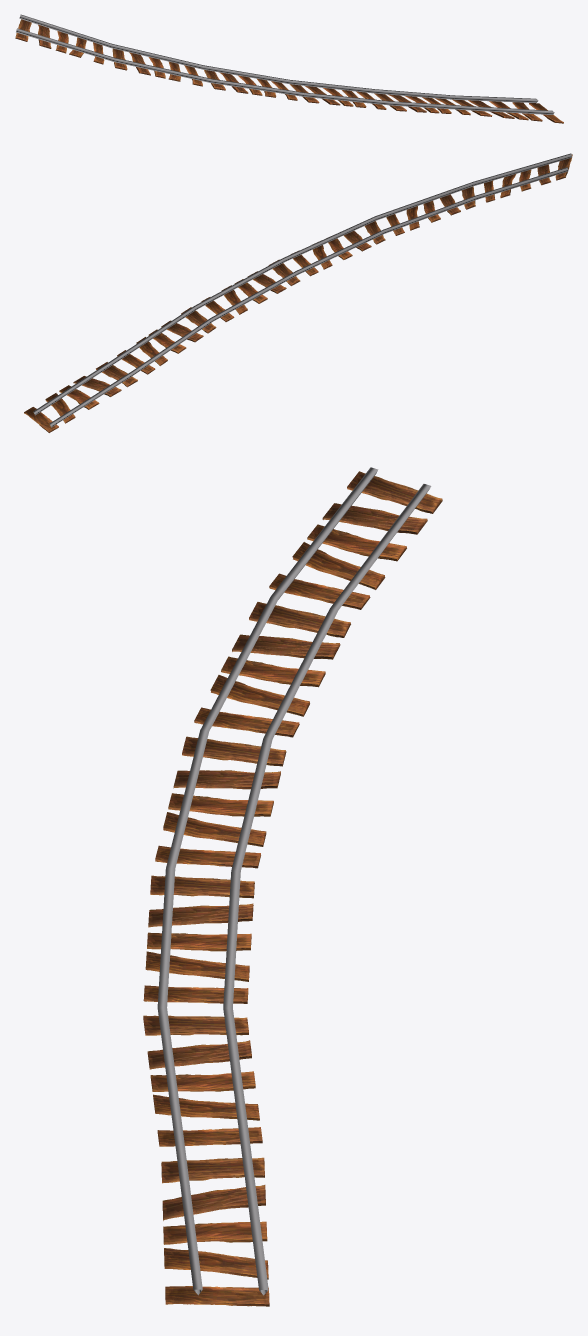
File: SWORDLIGHT20_MAIN1RAILS1NE.fbx
The picture shows the model from 3 angles, top to bottom: view 1: azimuth 30°, elevation 25°; view 2: azimuth 210°, elevation 25°; view 3: azimuth 270°, elevation 25°; orthographic projection. The views are drawn at different scales.
Parts seen in each view (by area): view 1: SWORDLIGHT20_MAIN1RAILS1NE; view 2: SWORDLIGHT20_MAIN1RAILS1NE; view 3: SWORDLIGHT20_MAIN1RAILS1NE.
Boxes of the visible parts, x1,y1,x2,y2 form: SWORDLIGHT20_MAIN1RAILS1NE: (15,14,563,123); SWORDLIGHT20_MAIN1RAILS1NE: (24,153,572,432); SWORDLIGHT20_MAIN1RAILS1NE: (143,467,442,1306).
Size of the model in its own units: 184666 by 62196 by 47218.
2 materials, 2 textured.
